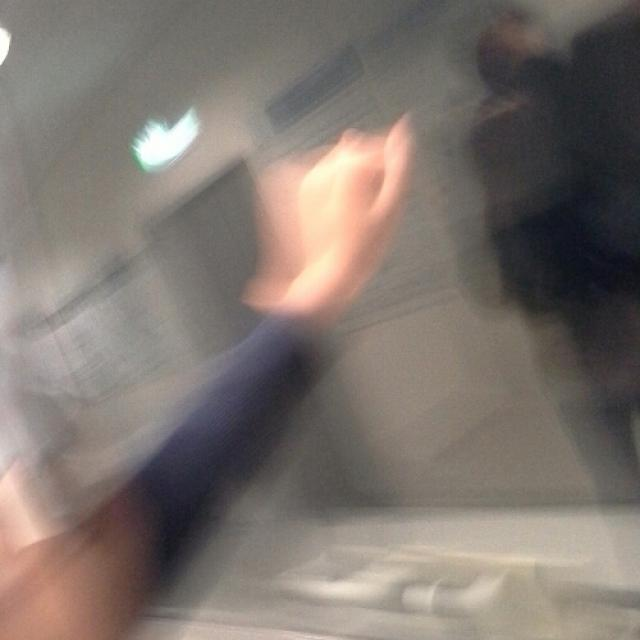rock: (286, 118, 410, 282)
